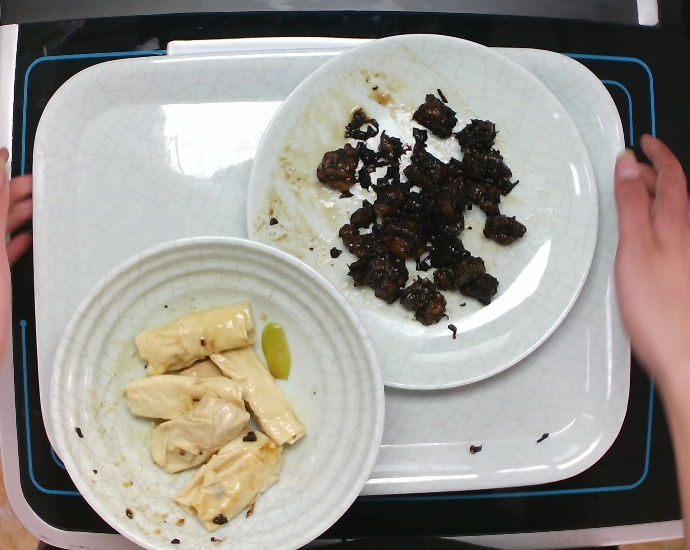JYsf-Da_Tang_Wan: (43, 233, 388, 550)
JYsf-Da_Yuan_Pan: (243, 31, 605, 397)
